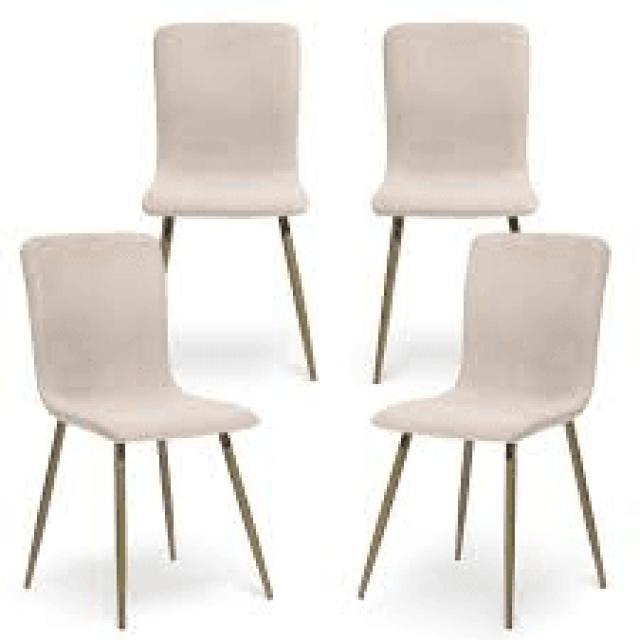chair: (358, 224, 618, 632), (20, 224, 278, 632), (140, 15, 318, 386), (368, 17, 542, 387), (17, 226, 274, 472), (374, 235, 610, 432), (370, 12, 531, 239), (150, 19, 302, 242)
